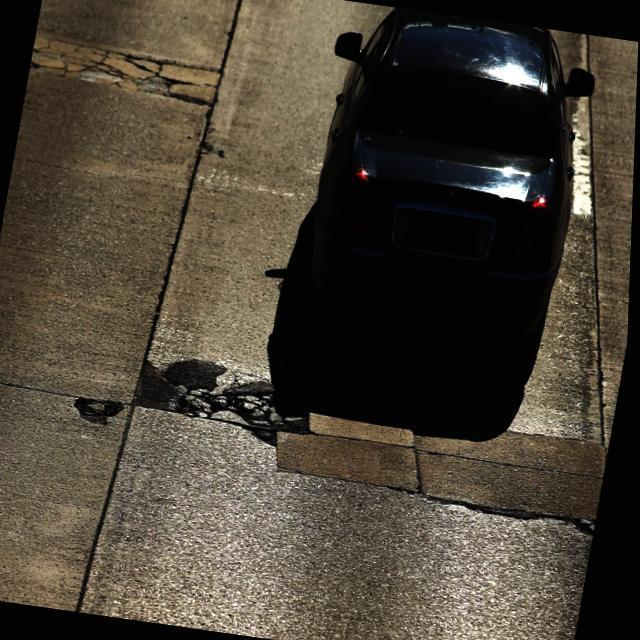Pothole: (136, 357, 314, 446), (80, 395, 130, 424)
